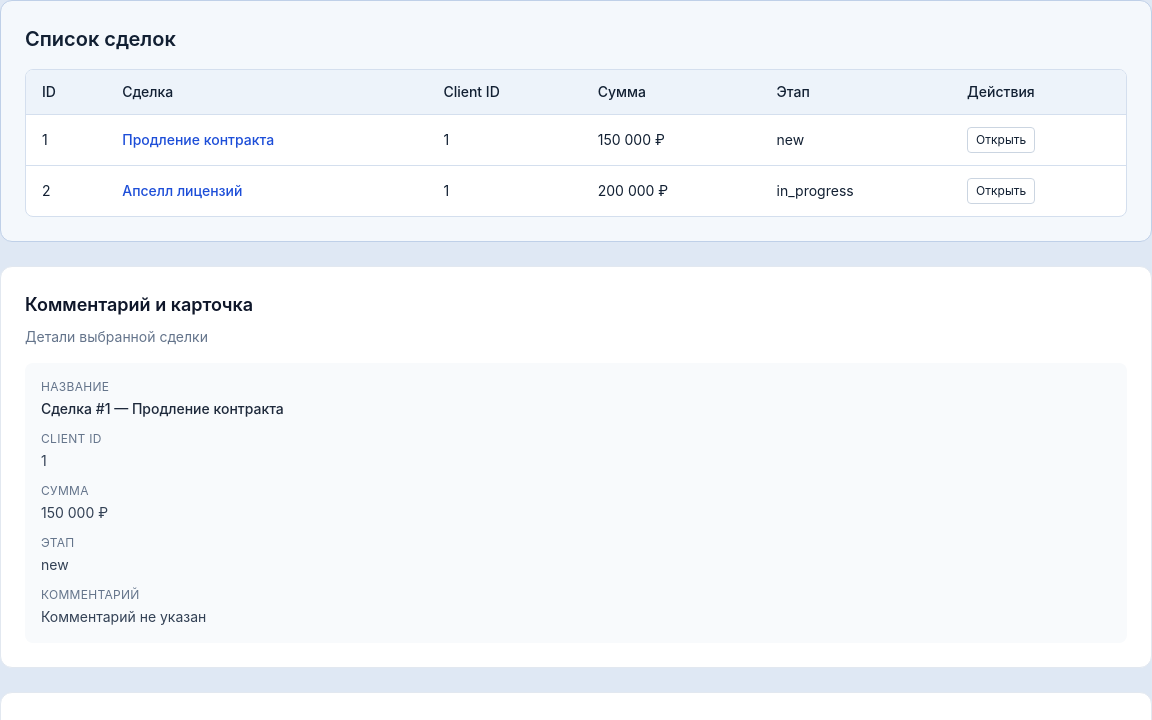
Test: DealsPage › scrolls to deal card after user selection
The image size is (1152, 720).
Click the button "Апселл лицензий" at (182, 191), box 122,181 -> 242,201
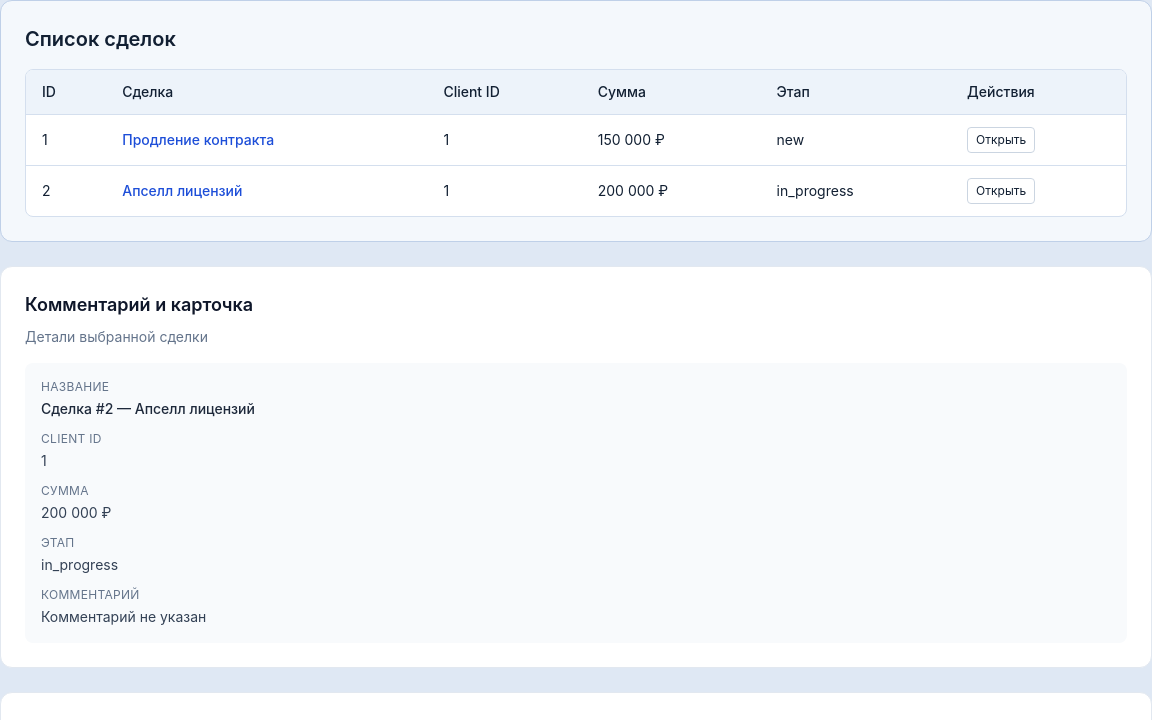
Check: the text "Сделка #2 — Апселл лицензий" is shown, box 41,400 -> 255,417
